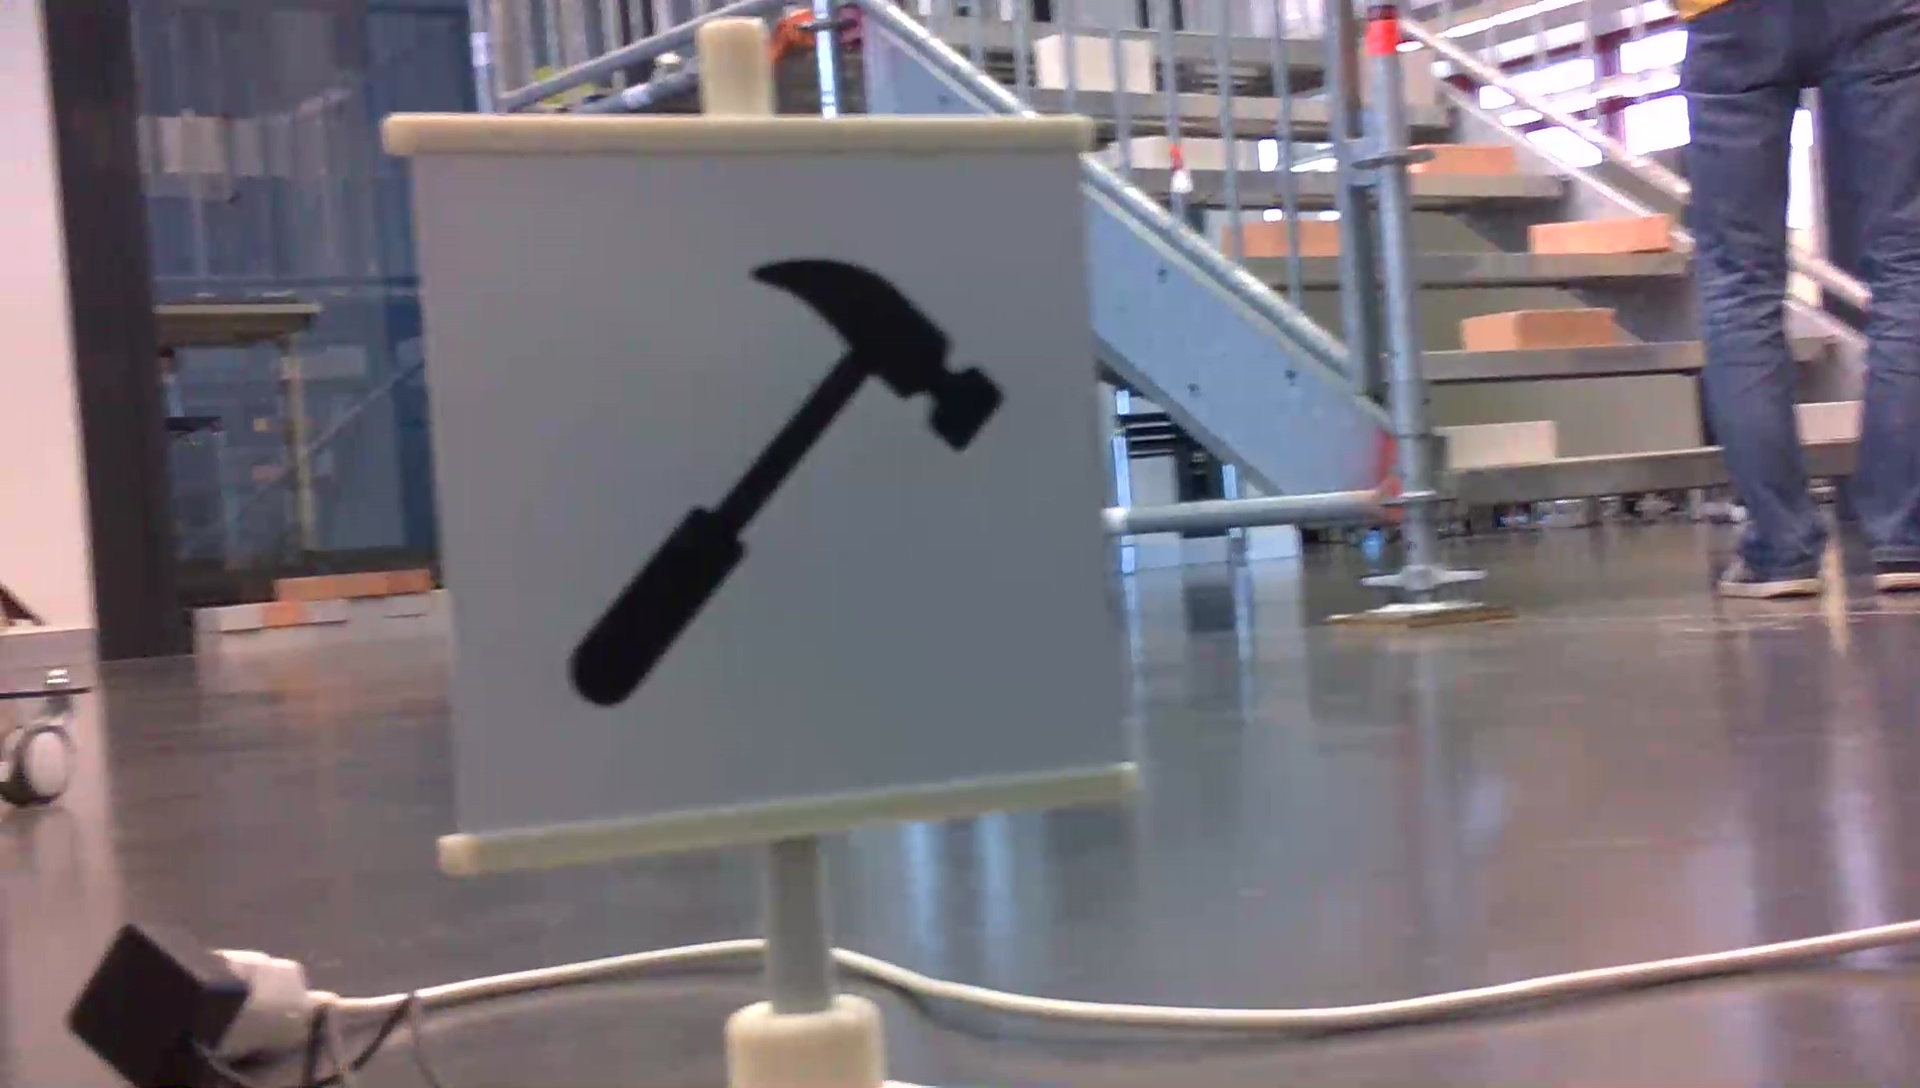brick: (1460, 310, 1607, 348), (1532, 215, 1669, 253), (1443, 422, 1552, 463), (1415, 142, 1513, 175), (1797, 401, 1858, 443), (1399, 53, 1432, 102)
hammer: (556, 253, 1011, 711)
